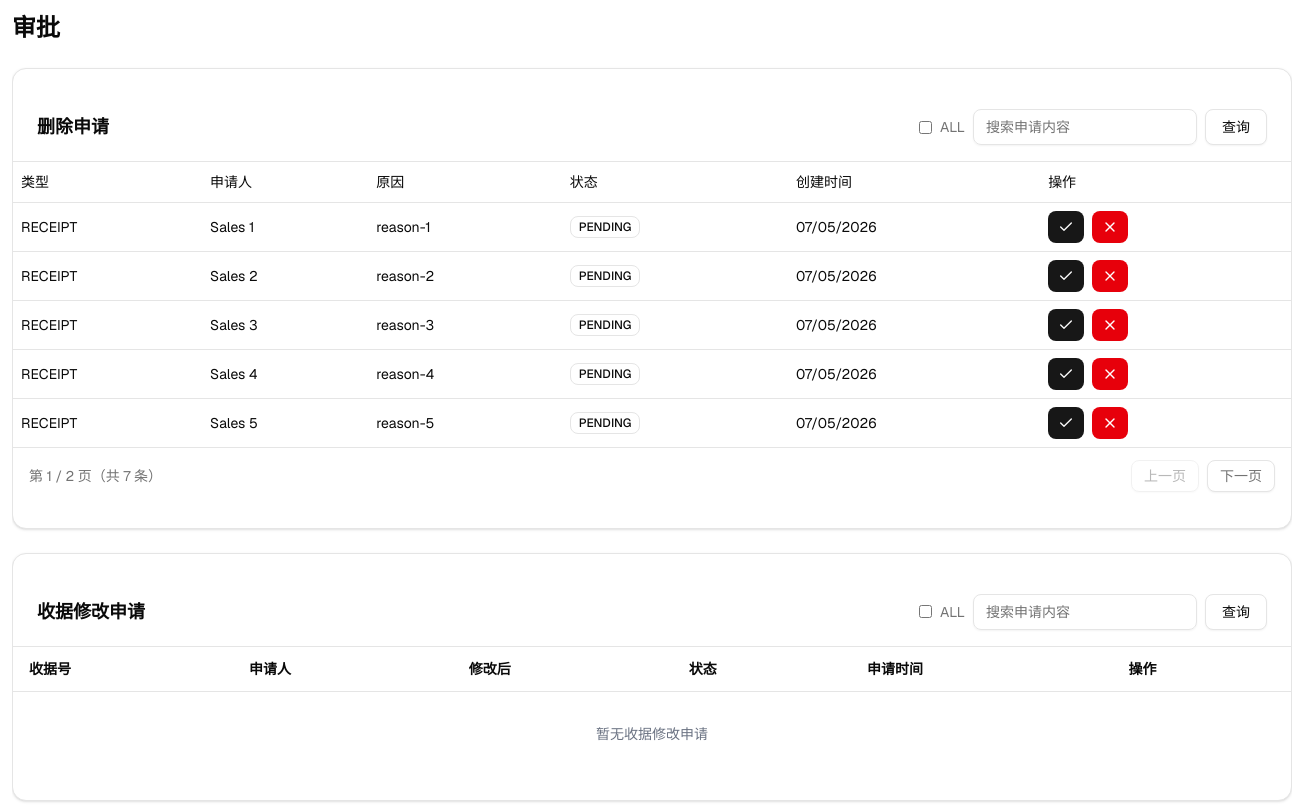
Test: DeletionManager approval pagination › shows only pending approval rows by default at 5 rows per page
This screenshot has width=1292, height=812.
Expected: the text "reason-5" is shown, left=368, top=398, right=562, bottom=446
Expected: the text "reason-6" is not shown
Click the button with aria-label "下一页 删除申请": (1241, 476) left=1207, top=460, right=1275, bottom=492
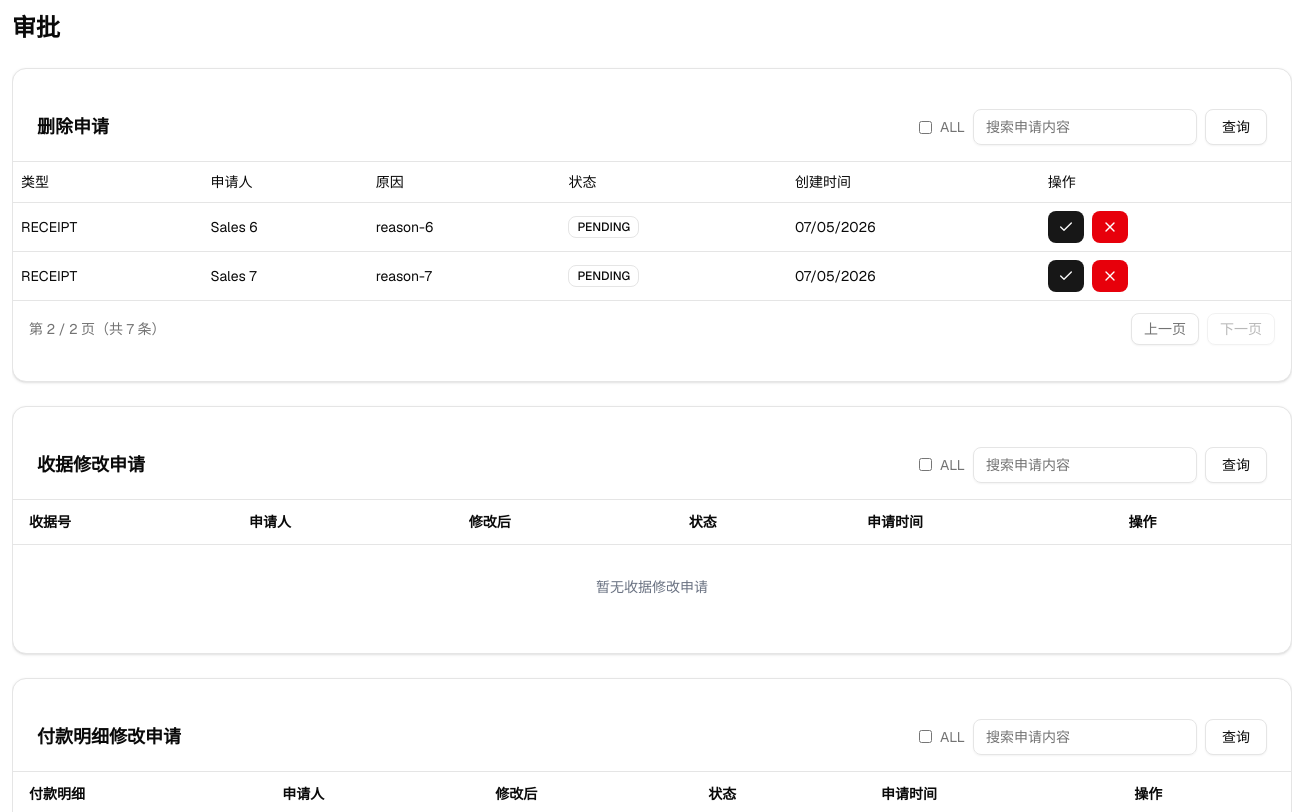
Expected: the text "reason-6" is shown, left=368, top=202, right=560, bottom=251
Expected: the text "reason-5" is gone
